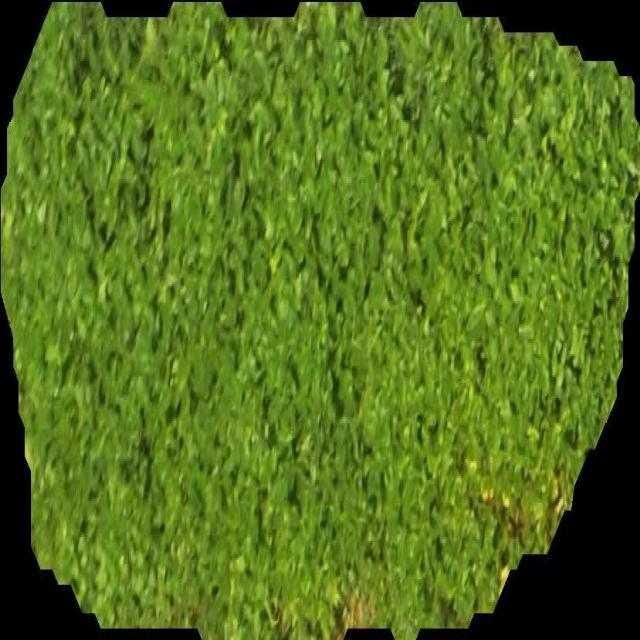Bean: (1, 2, 640, 640)
